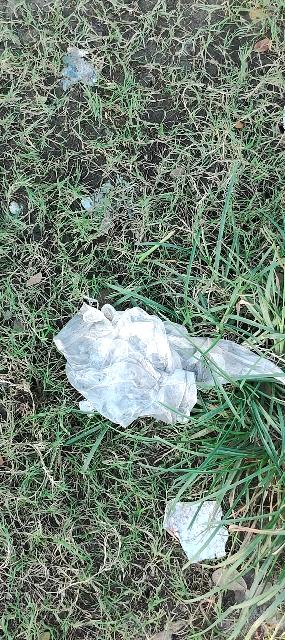polythene: (42, 295, 285, 461)
